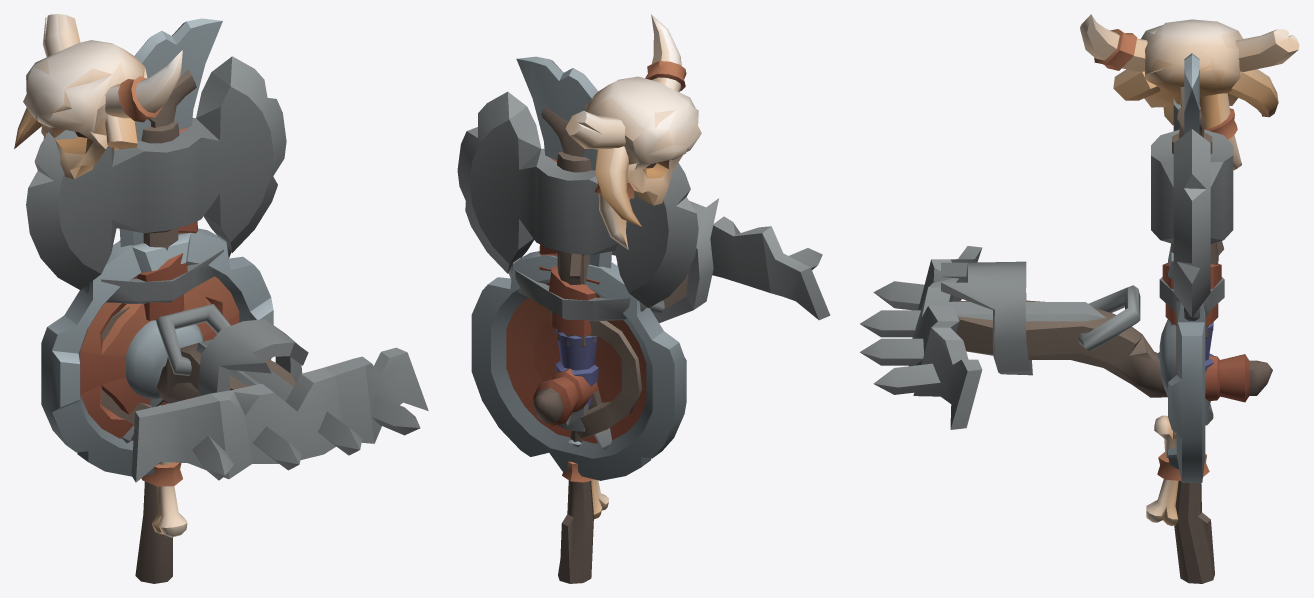
The model's file is skeleton-weapons.glb.
3 views of the same model, side by side, from view 1: azimuth 30°, elevation 25°; view 2: azimuth 150°, elevation 25°; view 3: azimuth 270°, elevation 25° (orthographic). The views are drawn at different scales.
Parts seen in each view (by area): view 1: Skeleton_Axe, Skeleton_Crossbow, Skeleton_Shield_Small_A, Skeleton_Staff, Skeleton_Blade; view 2: Skeleton_Axe, Skeleton_Shield_Small_A, Skeleton_Staff, Skeleton_Crossbow, Skeleton_Blade; view 3: Skeleton_Crossbow, Skeleton_Staff, Skeleton_Axe, Skeleton_Shield_Small_A, Skeleton_Blade.
Part boxes in pixels (x1,y1,x2,y2): Skeleton_Axe: (26, 56, 286, 407); Skeleton_Crossbow: (131, 304, 428, 482); Skeleton_Shield_Small_A: (41, 228, 273, 476); Skeleton_Staff: (14, 14, 196, 583); Skeleton_Blade: (82, 18, 231, 443); Skeleton_Axe: (457, 91, 698, 431); Skeleton_Shield_Small_A: (471, 251, 686, 480); Skeleton_Staff: (541, 14, 701, 583); Skeleton_Crossbow: (533, 198, 830, 425); Skeleton_Blade: (508, 56, 646, 450); Skeleton_Crossbow: (860, 246, 1272, 429); Skeleton_Staff: (1080, 14, 1299, 583); Skeleton_Axe: (1151, 99, 1233, 425); Skeleton_Shield_Small_A: (1159, 245, 1205, 482); Skeleton_Blade: (1159, 53, 1224, 320).
Size of the model in its own units: 1.11 by 2.1 by 1.51.
Materials: 1 (1 with a texture image).
